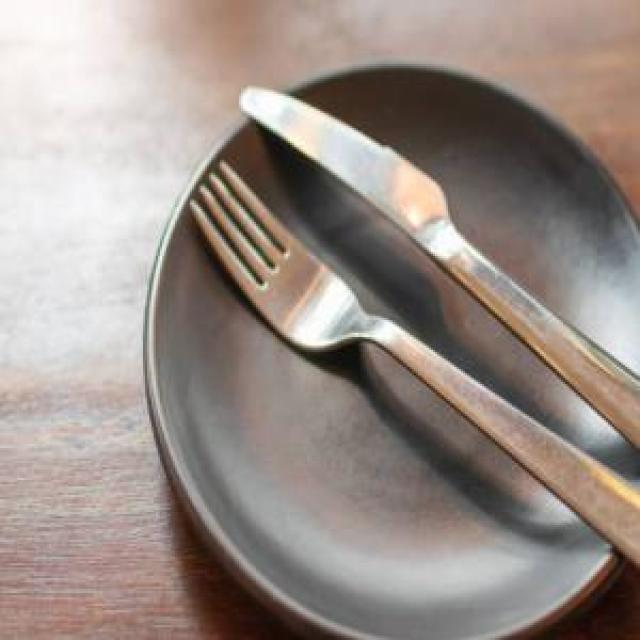knife: (235, 81, 638, 457)
